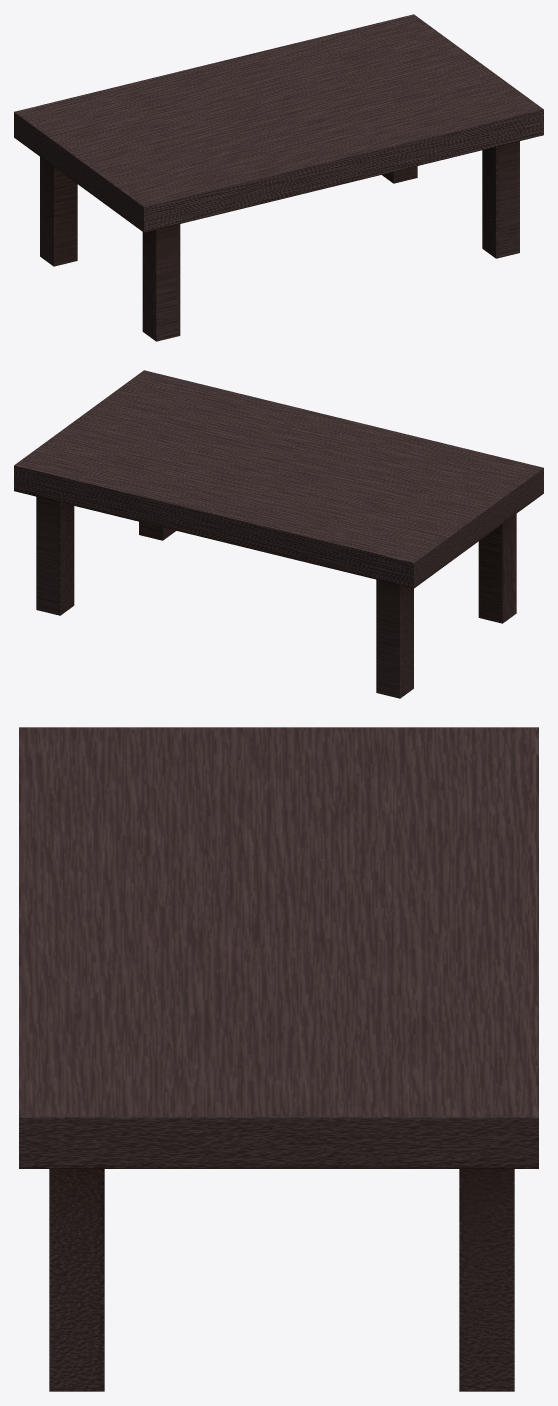
The model's file is table01.fbx.
3 views of the same model, one above another, from view 1: azimuth 30°, elevation 25°; view 2: azimuth 150°, elevation 25°; view 3: azimuth 270°, elevation 25° (orthographic). The views are drawn at different scales.
Parts seen in each view (by area): view 1: Cube.005; view 2: Cube.005; view 3: Cube.005.
Boxes of the visible parts, left/top/right/bottom form: Cube.005: left=14, top=14, right=543, bottom=341; Cube.005: left=14, top=370, right=543, bottom=698; Cube.005: left=19, top=727, right=538, bottom=1391.
Bounding box in the file's own units: 1.42 × 0.8007 × 0.4927.
1 material, 1 textured.
